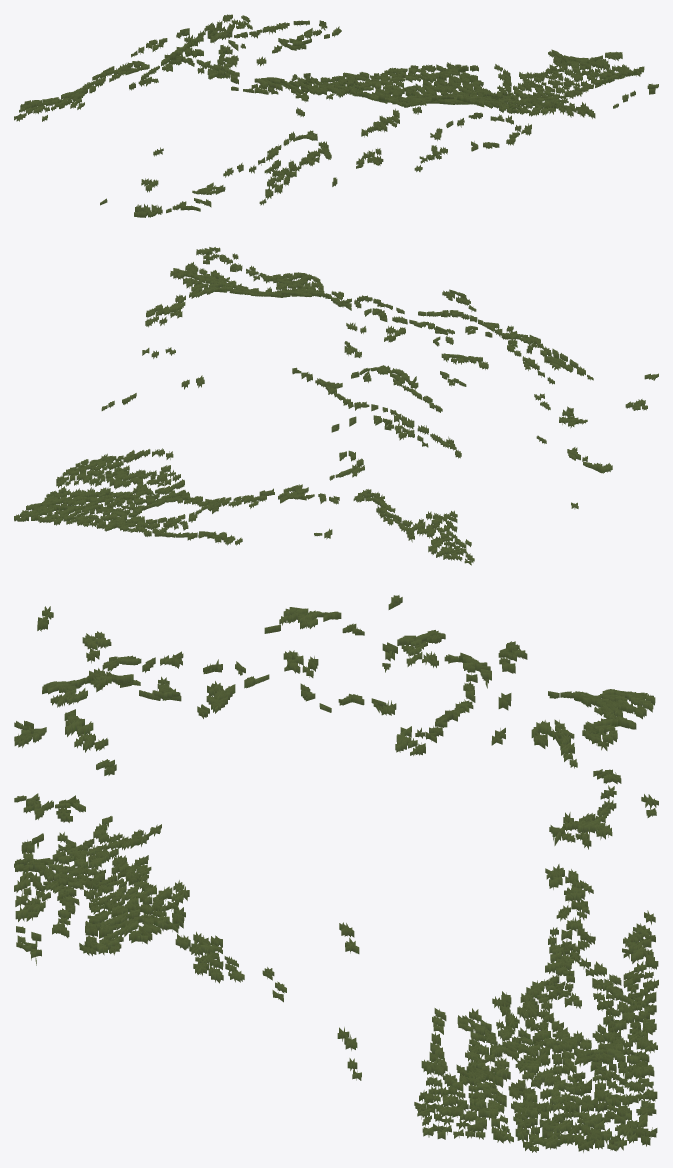
Rendered from TRB8-GRASS-CHUNK-5-1.glb.
The picture shows the model from 3 angles, top to bottom: view 1: azimuth 30°, elevation 25°; view 2: azimuth 150°, elevation 25°; view 3: azimuth 270°, elevation 25°; orthographic projection. The views are drawn at different scales.
Parts seen in each view (by area): view 1: TRB8-GRASS-CHUNK-5-1; view 2: TRB8-GRASS-CHUNK-5-1; view 3: TRB8-GRASS-CHUNK-5-1.
Part boxes in pixels (left/top/right/bottom): TRB8-GRASS-CHUNK-5-1: left=14, top=14, right=658, bottom=217; TRB8-GRASS-CHUNK-5-1: left=14, top=247, right=658, bottom=565; TRB8-GRASS-CHUNK-5-1: left=14, top=595, right=658, bottom=1152.
Size of the model in its own units: 40.51 by 14.93 by 30.56.
1 material, 1 textured.
